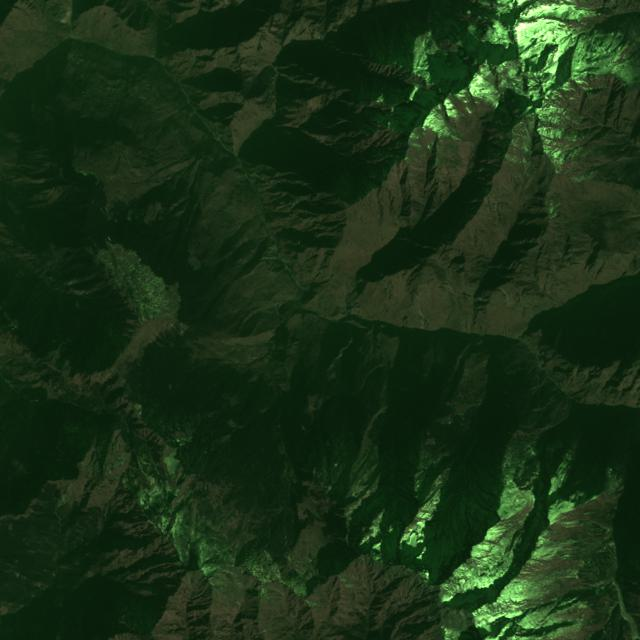landslides: (416, 295, 425, 330), (208, 51, 219, 77), (358, 437, 370, 455), (68, 53, 83, 66), (171, 324, 182, 337), (212, 585, 222, 599), (261, 253, 280, 260), (265, 244, 276, 255), (444, 279, 453, 292)
